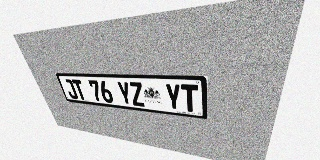6: (98, 81, 114, 103)
7: (87, 80, 104, 102)
J: (63, 79, 79, 99)
T: (181, 84, 198, 113), (71, 79, 87, 100)
Y: (164, 83, 182, 111), (116, 81, 133, 105)
Z: (128, 82, 145, 107)
